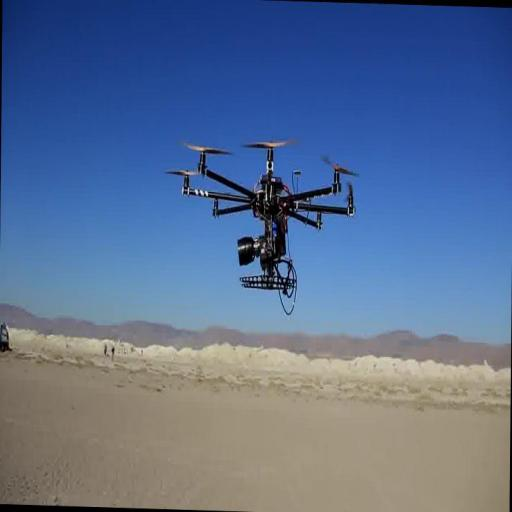drone: (172, 132, 358, 296)
